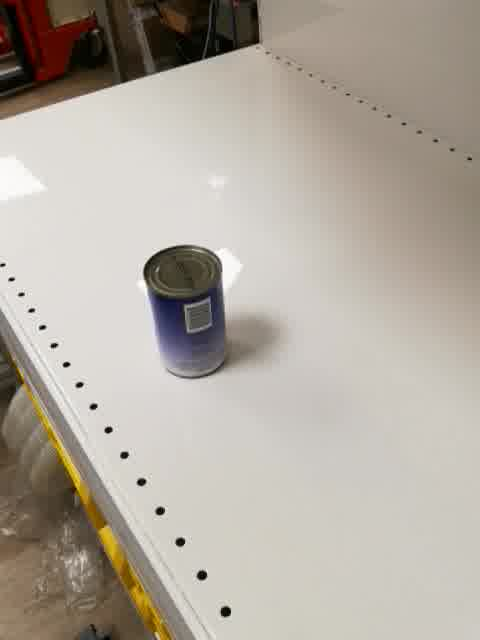sardine: (142, 245, 229, 380)
